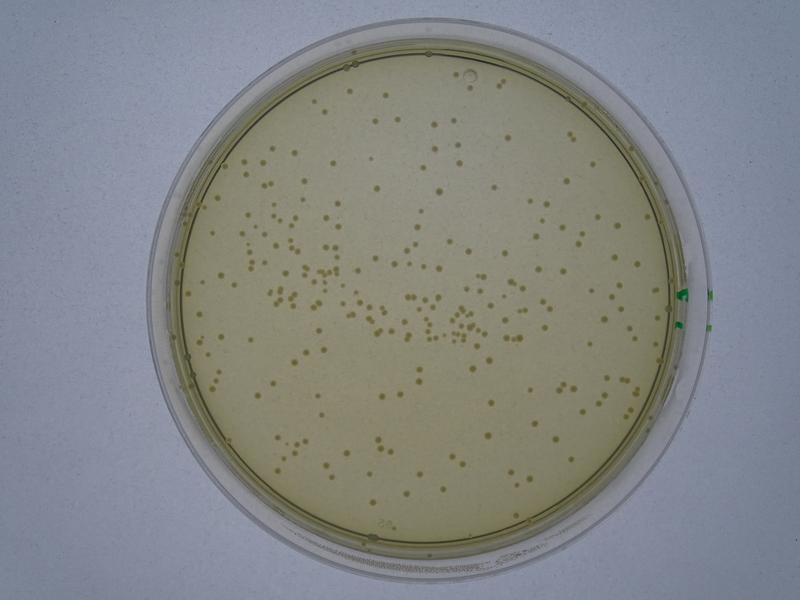colony: (369, 182, 384, 194), (598, 312, 609, 327), (427, 118, 439, 130), (251, 389, 262, 400), (485, 398, 496, 409), (498, 247, 510, 257), (215, 331, 225, 343), (561, 174, 570, 187), (369, 113, 378, 126), (341, 447, 351, 458), (611, 221, 623, 230), (501, 133, 511, 143), (444, 236, 454, 246), (377, 390, 387, 400), (531, 232, 542, 241), (271, 240, 280, 251), (290, 357, 299, 368), (559, 264, 567, 276), (435, 186, 445, 195), (328, 157, 337, 167), (482, 430, 491, 440), (288, 148, 299, 156), (216, 269, 224, 280), (430, 144, 438, 155), (332, 198, 341, 207), (380, 90, 389, 99), (490, 180, 496, 192), (412, 222, 421, 230), (470, 364, 477, 373), (369, 255, 379, 261), (319, 346, 326, 353)
